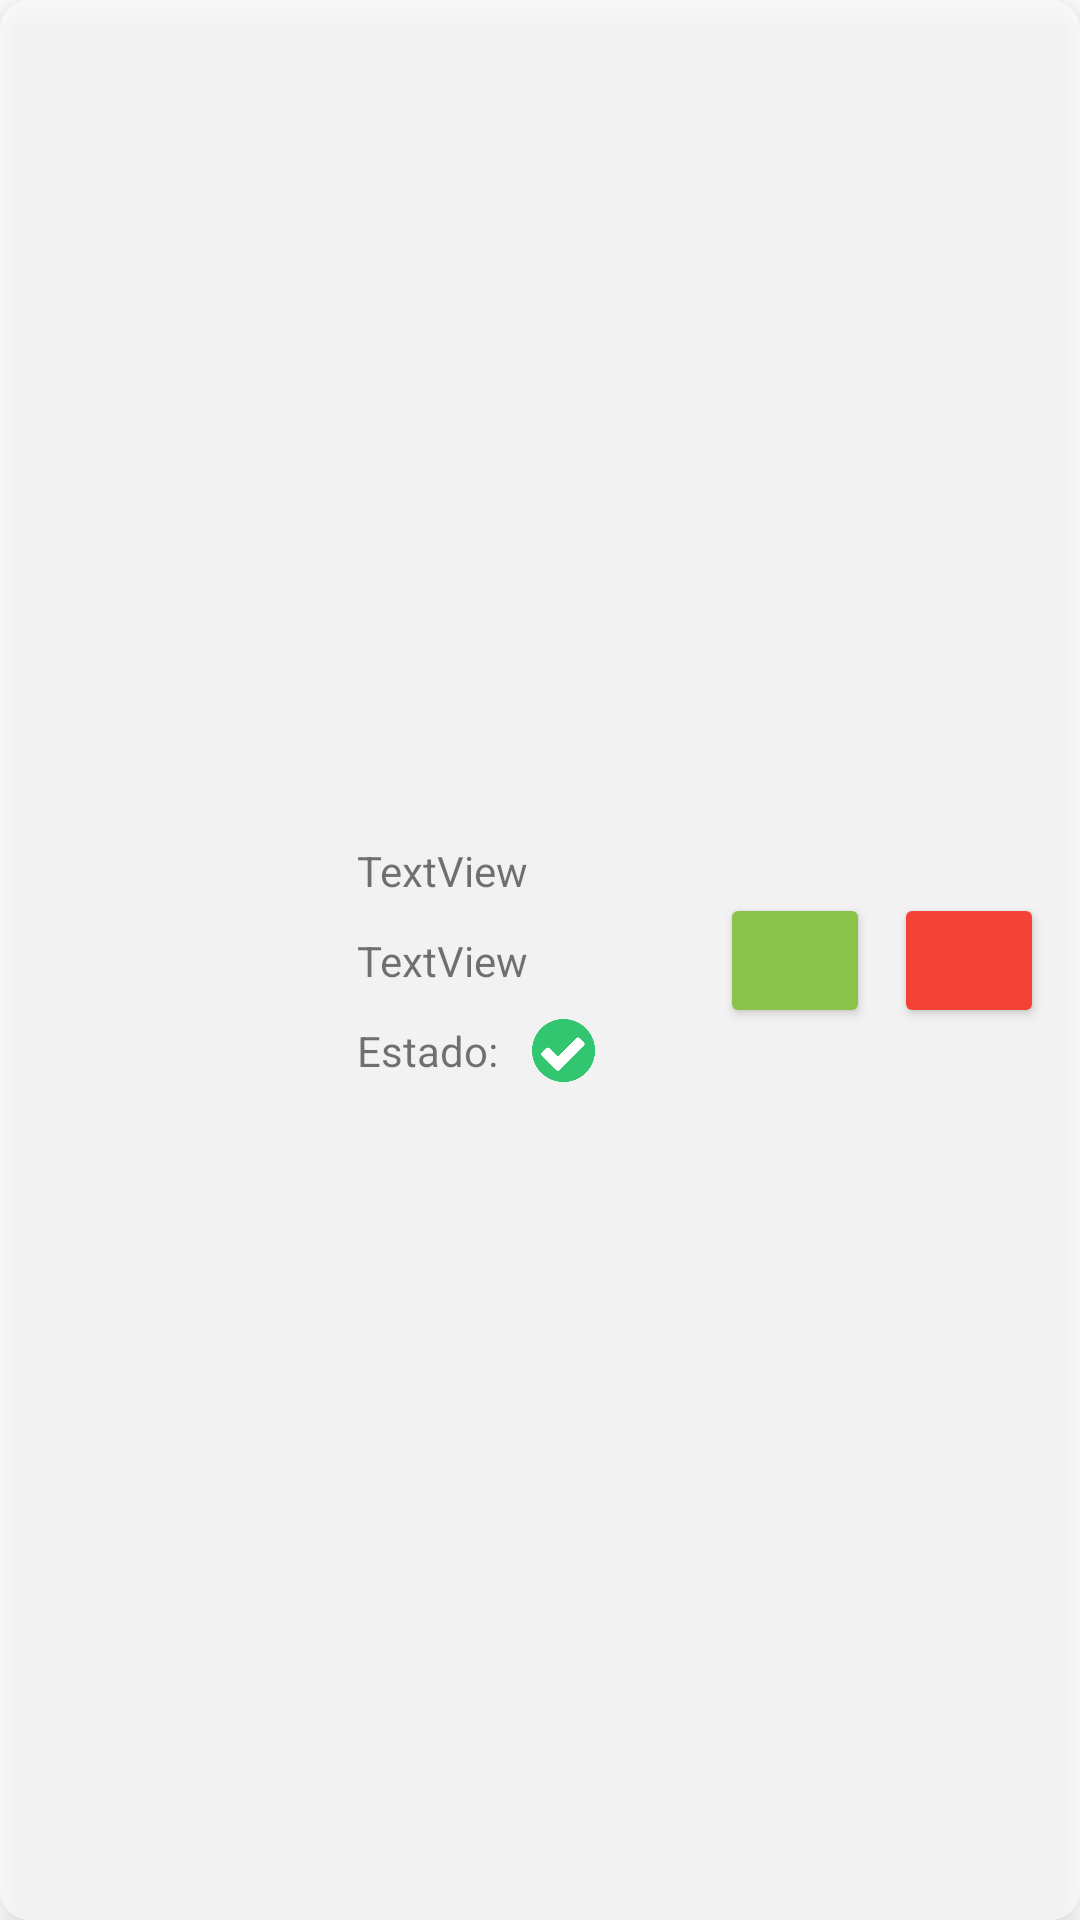

Where icons sit on this 1080px×1920px app screen, as (x1, y1, x2, y2):
registrado: (532, 1019, 595, 1082)
